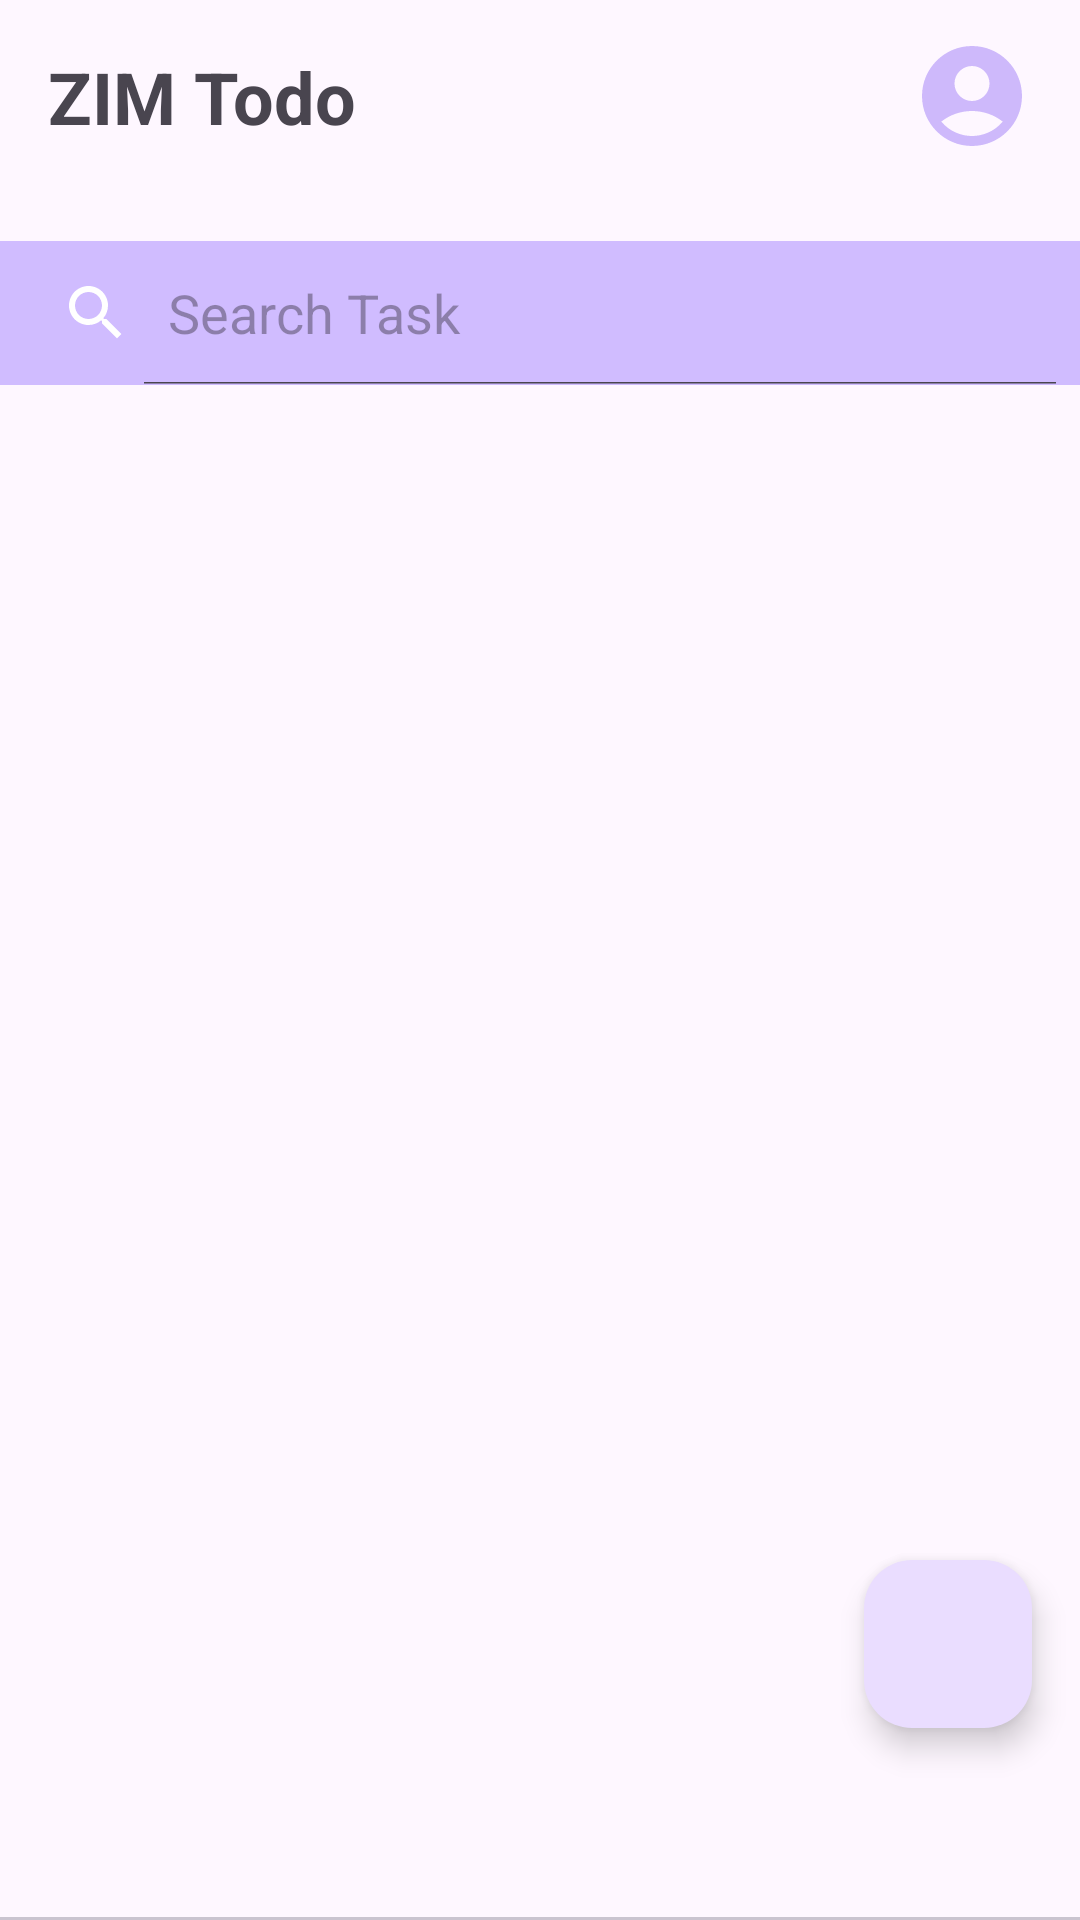

Icon bounding boxes for this 1080 × 1920 phone screenshot, format (x1, y1, x2, y2):
account: (922, 46, 1022, 146)
